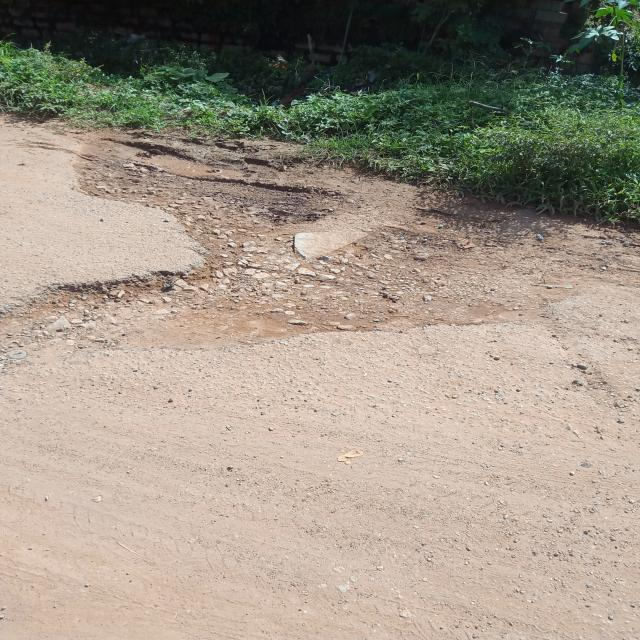potholes: (48, 138, 482, 351)
